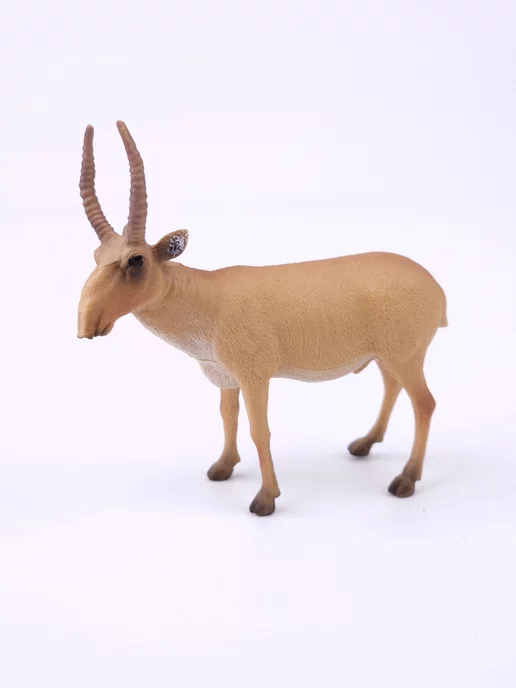saiga: (71, 120, 450, 518)
